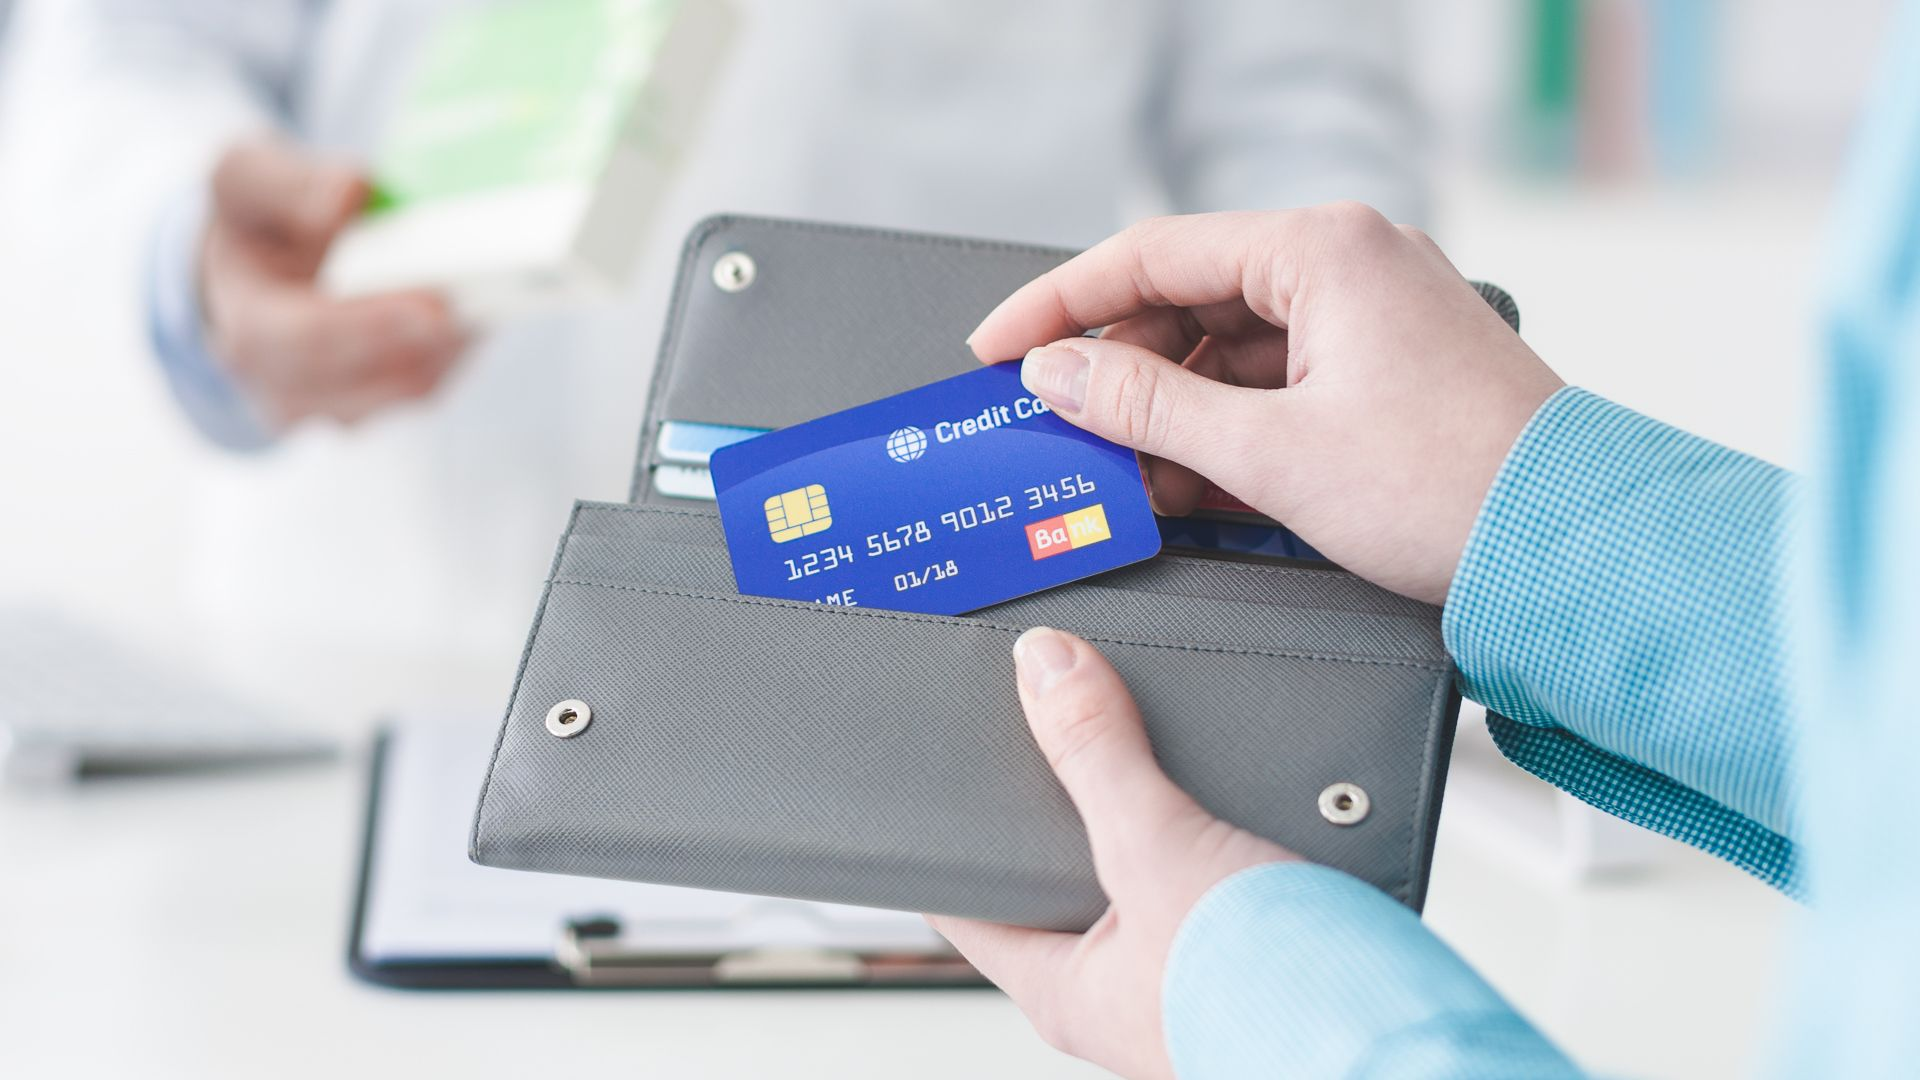card: (707, 363, 1163, 615)
